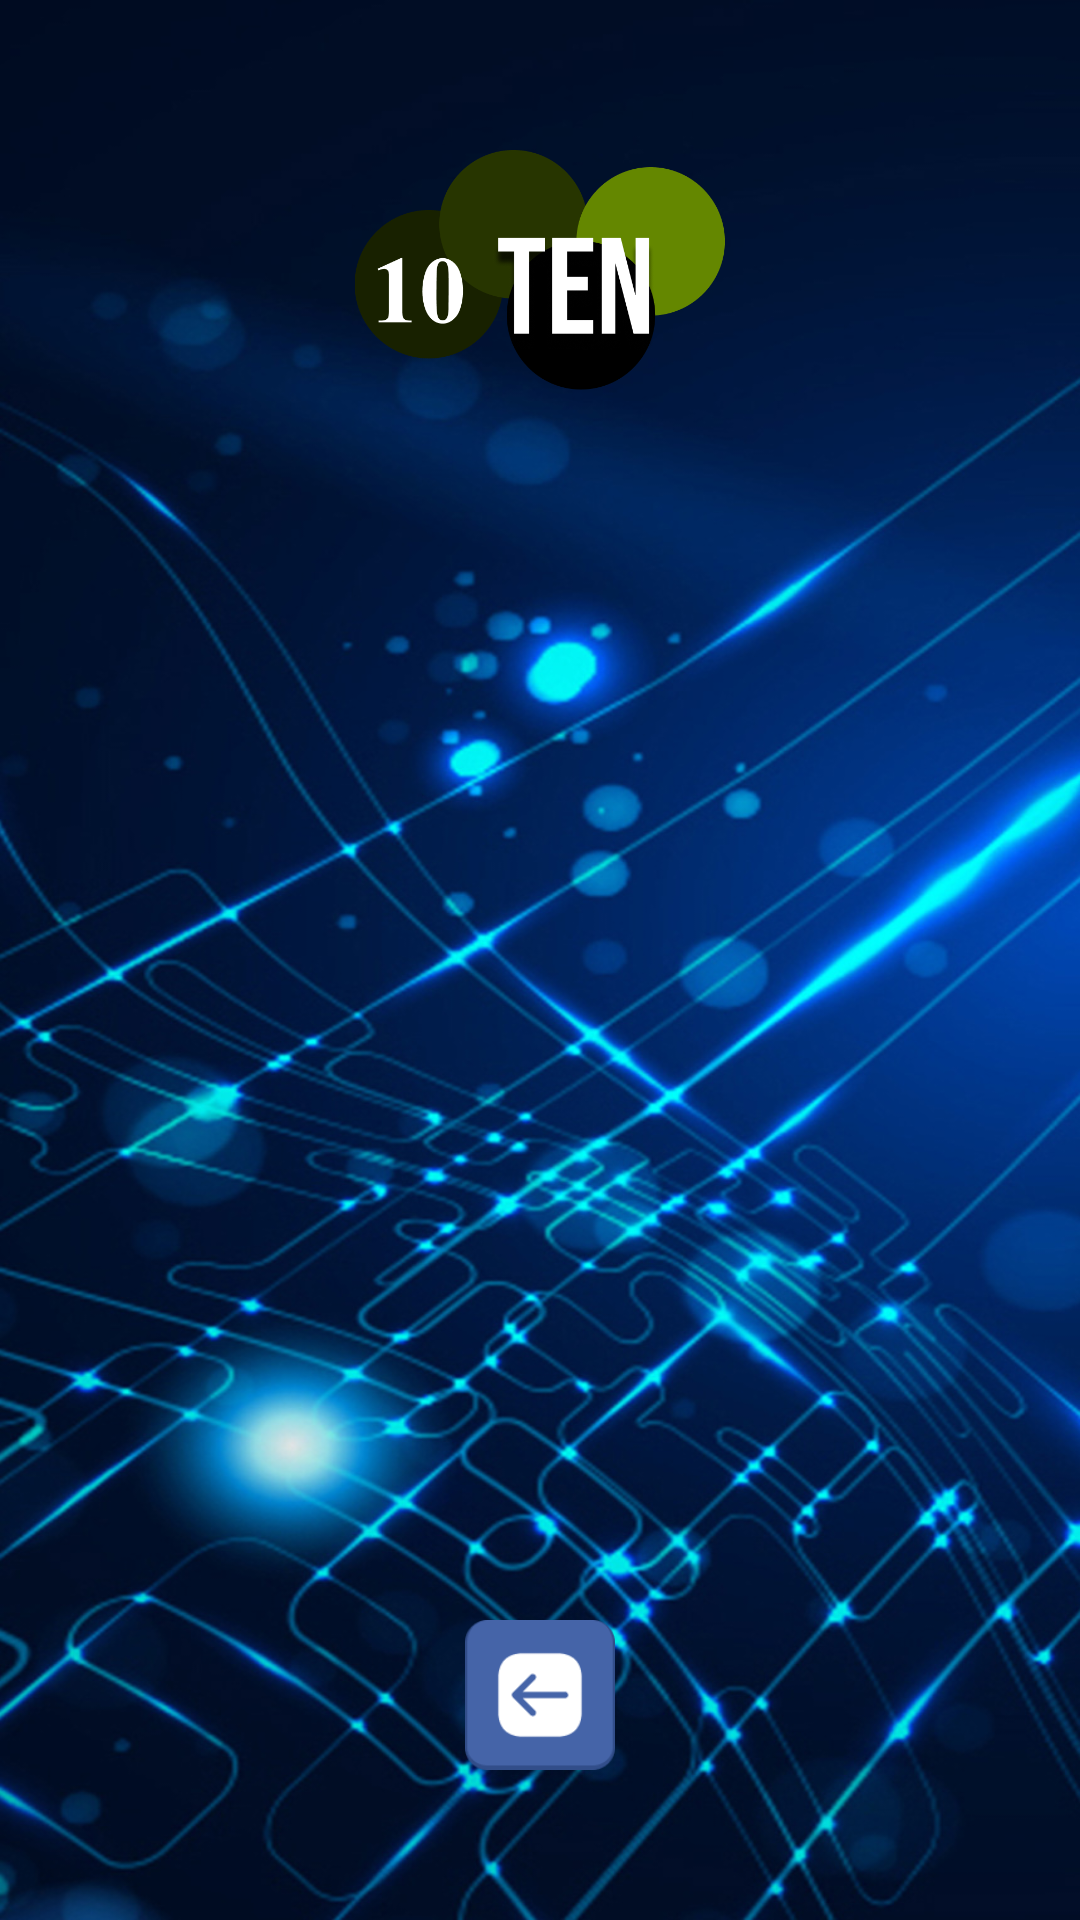

Icon click points for this 1080 × 1920 phone screenshot, format (x,y):
ten back: (540,1695)
